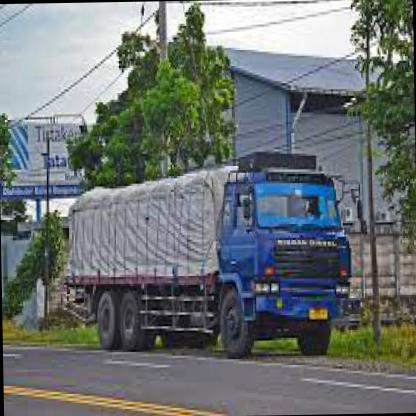truck: (216, 166, 354, 361)
